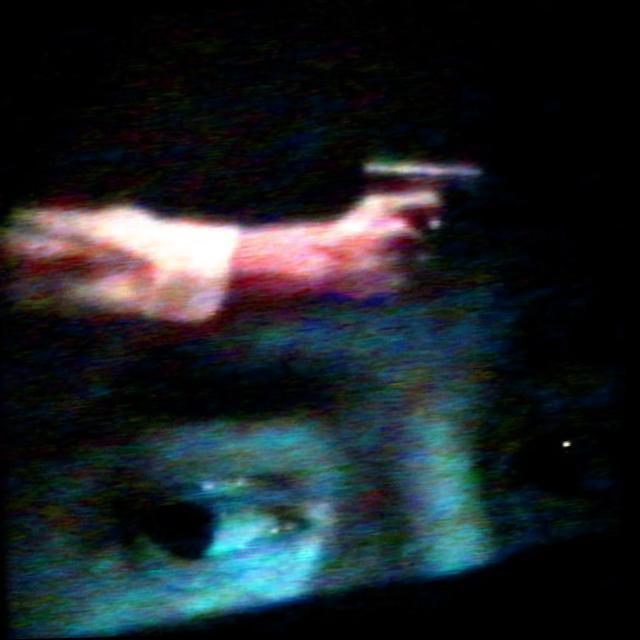weapon: (353, 148, 497, 308)
